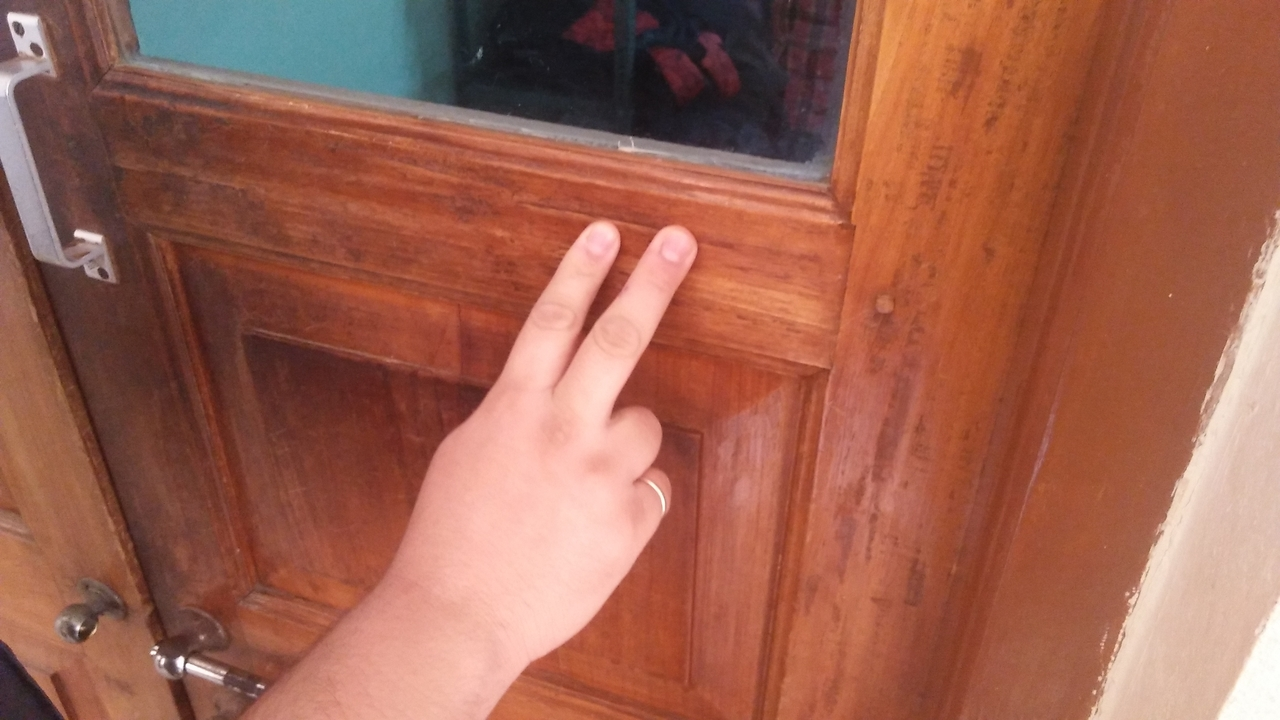fingertip: (558, 210, 632, 274), (636, 214, 706, 276)
